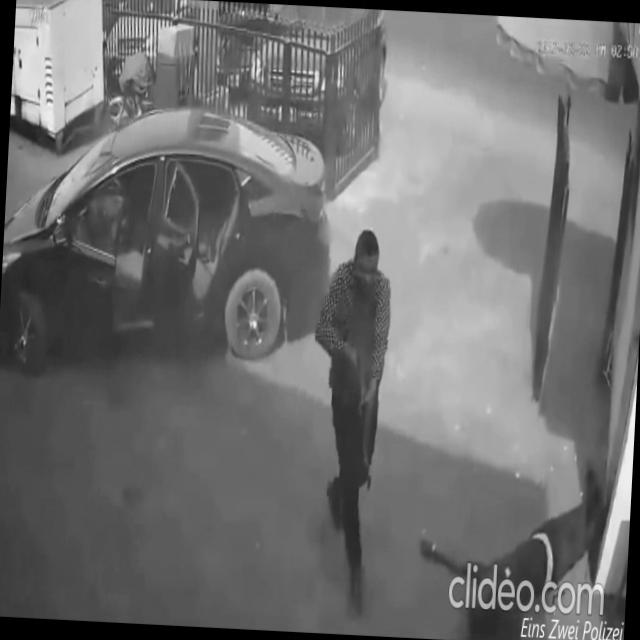gun: (340, 339, 381, 494)
person: (412, 453, 611, 640)
person with a gun: (298, 224, 396, 622)
